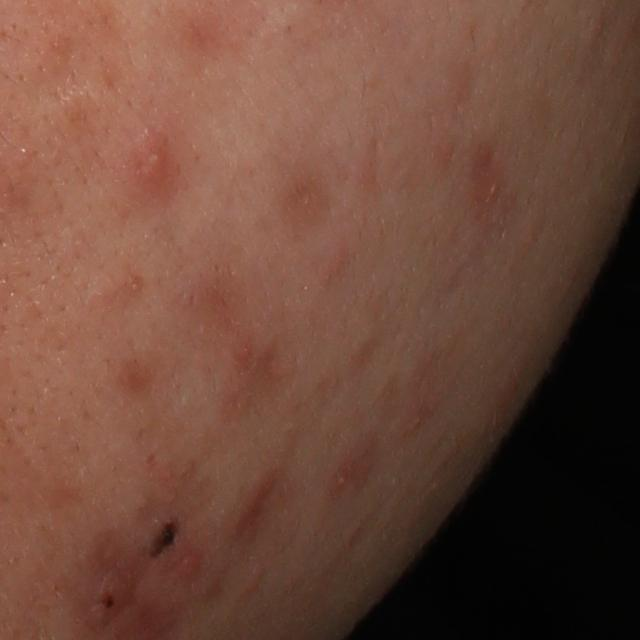nevus: (148, 519, 178, 557)
papule: (131, 127, 177, 196), (90, 573, 132, 625)
